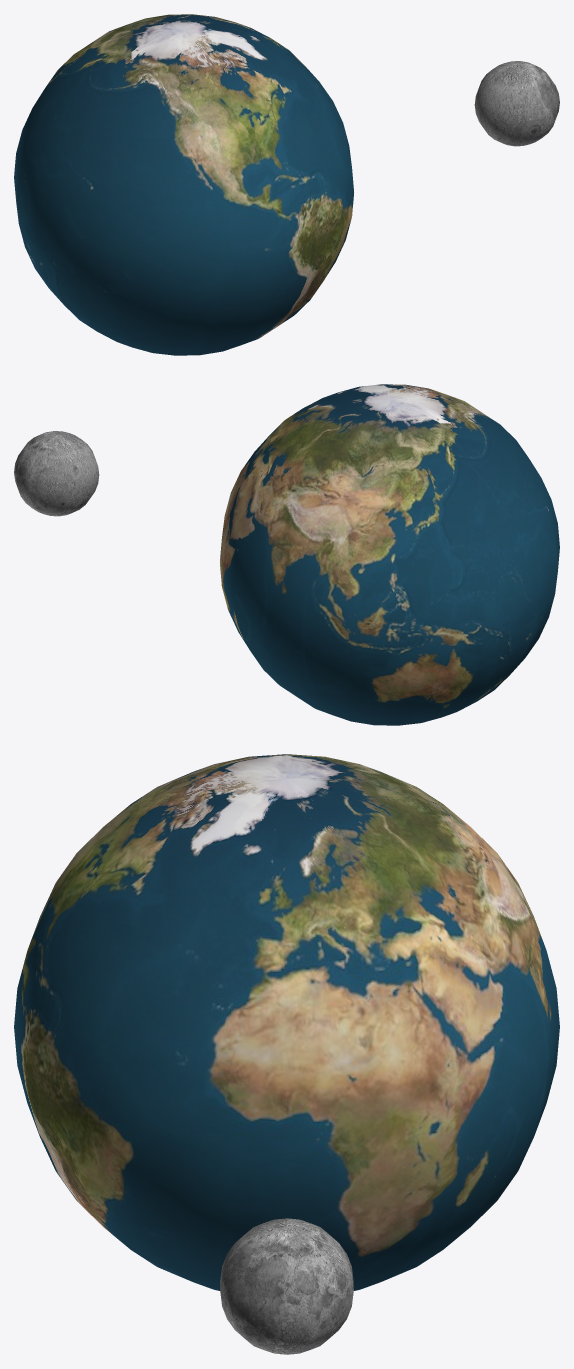
Rendered from earth-moon.gltf.
The picture shows the model from 3 angles, top to bottom: view 1: azimuth 30°, elevation 25°; view 2: azimuth 150°, elevation 25°; view 3: azimuth 270°, elevation 25°; orthographic projection. The views are drawn at different scales.
Parts seen in each view (by area): view 1: Planet, Moon; view 2: Planet, Moon; view 3: Planet, Moon.
Part boxes in pixels (box(x1,y1,x2,y2)): Planet: box(14, 14, 353, 355); Moon: box(474, 61, 559, 146); Planet: box(220, 384, 559, 725); Moon: box(14, 431, 99, 516); Planet: box(14, 754, 559, 1290); Moon: box(220, 1218, 353, 1354).
Bounding box in the file's own units: 3.5 × 2 × 2.
2 materials, 2 textured.
